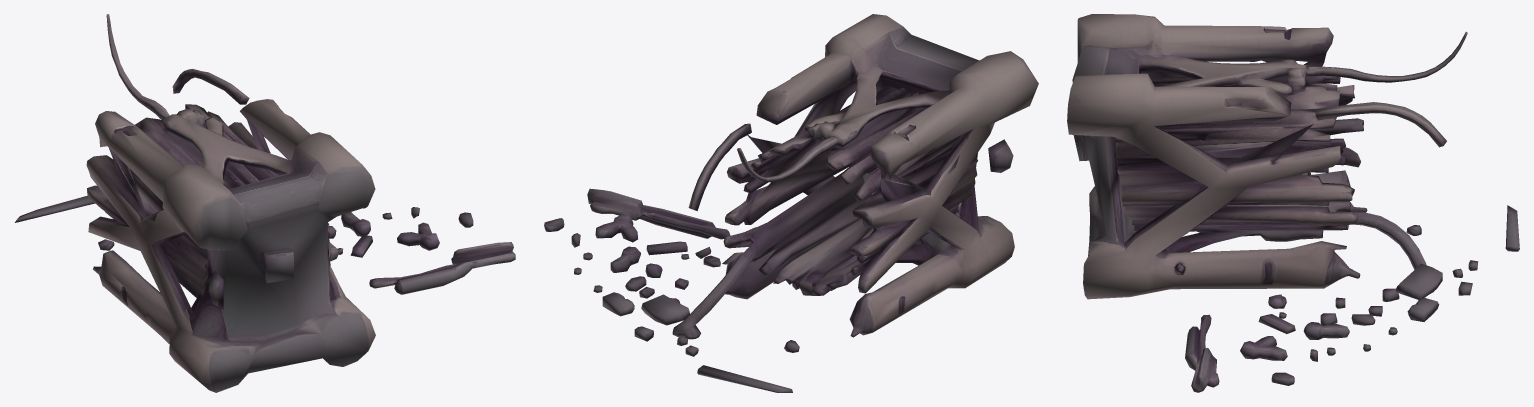
The model's file is tripo_convert_e119fe8c-62a7-4e94-be69-ee4f8c1cfd47.fbx.
The picture shows the model from 3 angles, left to right: view 1: azimuth 30°, elevation 25°; view 2: azimuth 150°, elevation 25°; view 3: azimuth 270°, elevation 25°; orthographic projection. The views are drawn at different scales.
Parts seen in each view (by area): view 1: tripo_node_e119fe8c; view 2: tripo_node_e119fe8c; view 3: tripo_node_e119fe8c.
Boxes of the visible parts, x1=… form: tripo_node_e119fe8c: x1=15, y1=14, x2=515, y2=392; tripo_node_e119fe8c: x1=544, y1=14, x2=1038, y2=392; tripo_node_e119fe8c: x1=1067, y1=14, x2=1519, y2=392.
Size of the model in its own units: 0.998 by 0.5801 by 0.998.
1 material, 1 textured.
